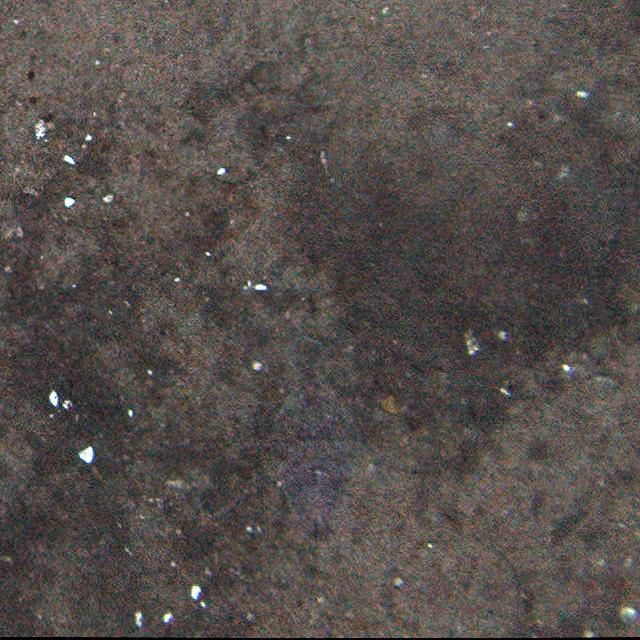flatfish: (264, 336, 364, 522)
